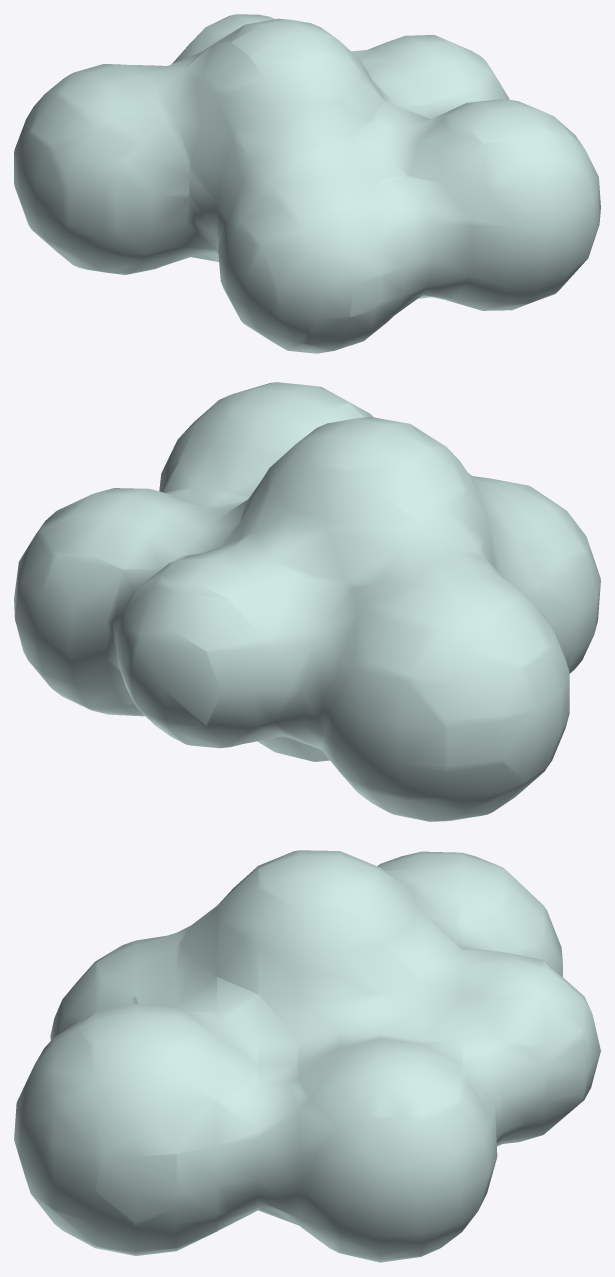
Rendered from rock.fbx.
3 renders of one model, top to bottom at view 1: azimuth 30°, elevation 25°; view 2: azimuth 150°, elevation 25°; view 3: azimuth 270°, elevation 25°, orthographic. The views are drawn at different scales.
Parts seen in each view (by area): view 1: Mball; view 2: Mball; view 3: Mball.
Boxes of the visible parts, x1,y1,x2,y2 form: Mball: (14,14,600,353); Mball: (14,382,600,821); Mball: (14,850,600,1262).
Size of the model in its own units: 607 by 346 by 576.
